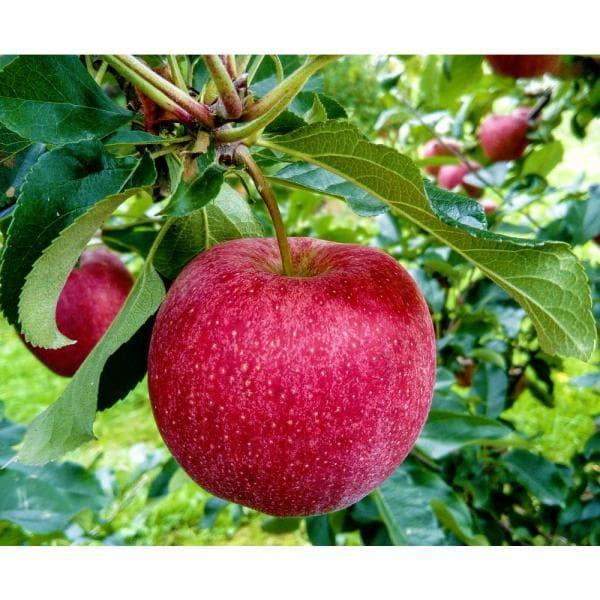apple: (150, 236, 440, 518), (26, 240, 136, 378)
